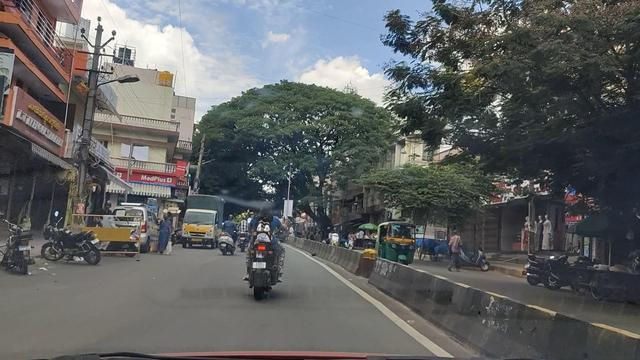LMV: (238, 208, 286, 307)
